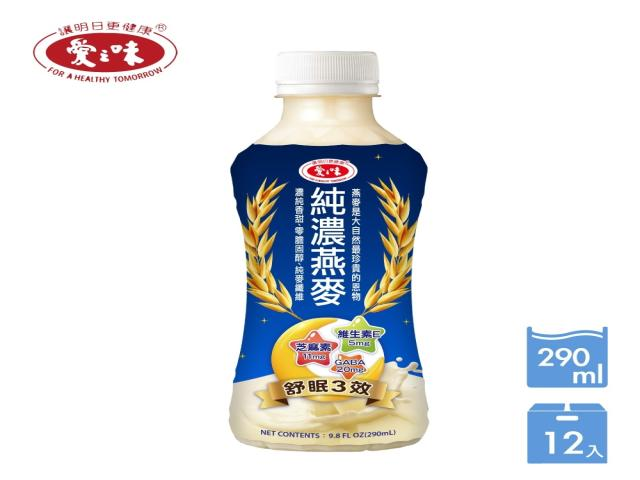bottle: (230, 52, 428, 450)
